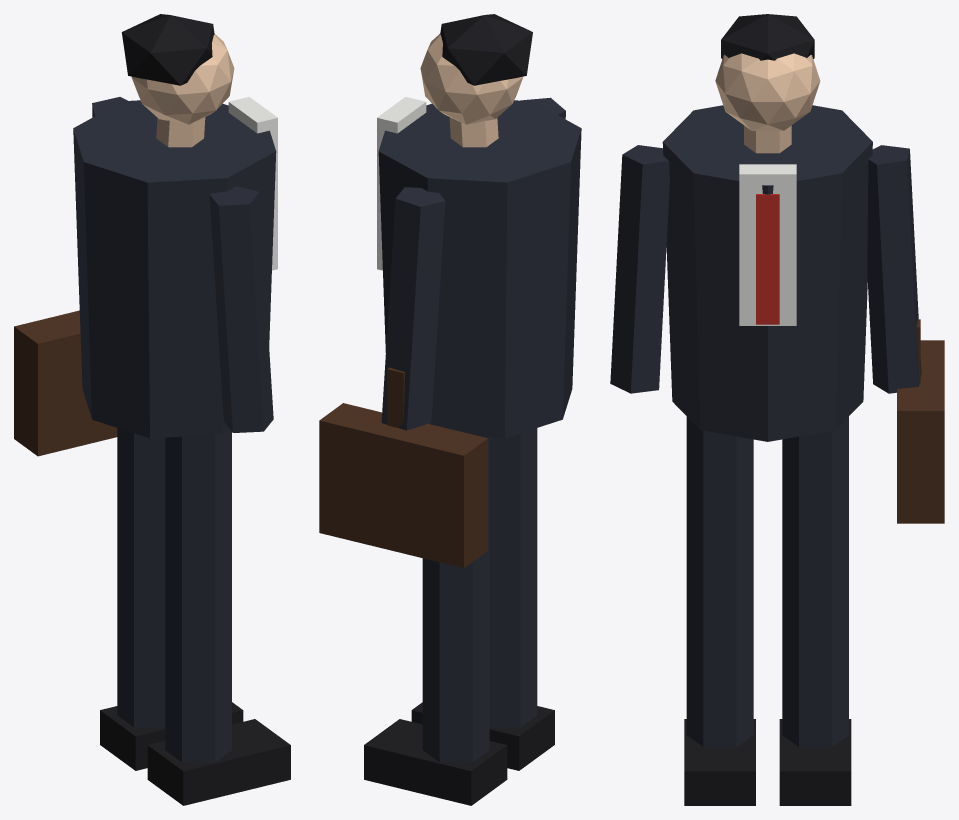
Rendered from kontorist.glb.
3 views of the same model, side by side, from view 1: azimuth 30°, elevation 25°; view 2: azimuth 150°, elevation 25°; view 3: azimuth 270°, elevation 25° (orthographic).
Visible parts, largest first — view 1: kontorist; view 2: kontorist; view 3: kontorist.
Part boxes in pixels (box(x1,y1,x2,y2)): kontorist: box(14, 14, 290, 805); kontorist: box(319, 14, 581, 805); kontorist: box(610, 14, 944, 805).
Bounding box in the file's own units: 0.44 × 1.74 × 0.6997.
